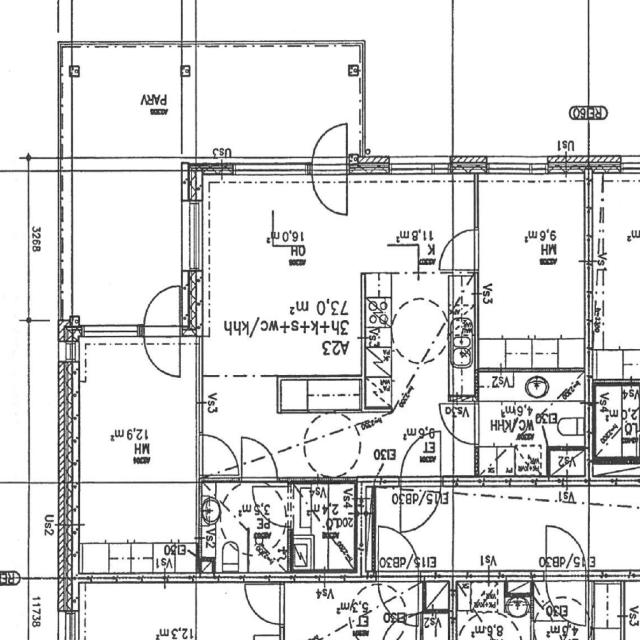door: (141, 316, 184, 380), (308, 119, 352, 180), (244, 577, 286, 633), (310, 164, 350, 219), (142, 283, 183, 335), (373, 520, 417, 568), (198, 431, 240, 476), (238, 432, 278, 478), (442, 227, 479, 271), (443, 401, 479, 446)
window: (180, 196, 210, 278), (227, 158, 310, 186), (484, 157, 558, 184), (384, 154, 452, 182), (79, 319, 143, 347), (581, 186, 600, 247), (192, 399, 208, 436), (618, 153, 640, 179), (629, 569, 640, 583)
zone: (473, 178, 590, 370), (64, 165, 185, 328), (189, 44, 357, 158), (60, 45, 195, 164), (70, 482, 201, 578), (446, 496, 578, 574), (0, 0, 58, 171), (199, 481, 293, 577), (475, 374, 589, 453), (596, 173, 640, 360), (291, 482, 361, 577), (0, 483, 62, 580), (454, 583, 531, 640), (587, 500, 640, 577), (594, 382, 640, 459), (533, 580, 590, 640), (542, 523, 586, 572), (590, 581, 625, 640), (28, 581, 59, 640), (0, 577, 29, 640), (546, 448, 588, 478), (624, 579, 640, 640)
